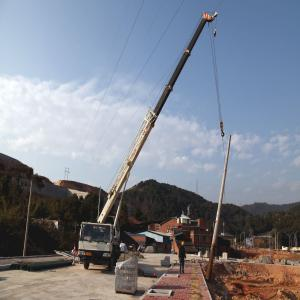yellow: (182, 242, 186, 248)
